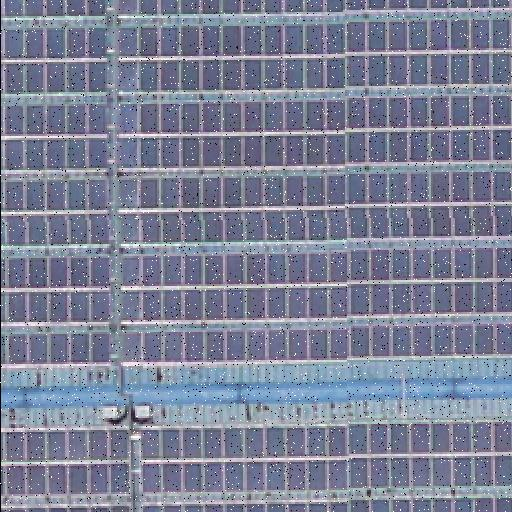solar-panel: (0, 0, 512, 364), (0, 419, 512, 512)
